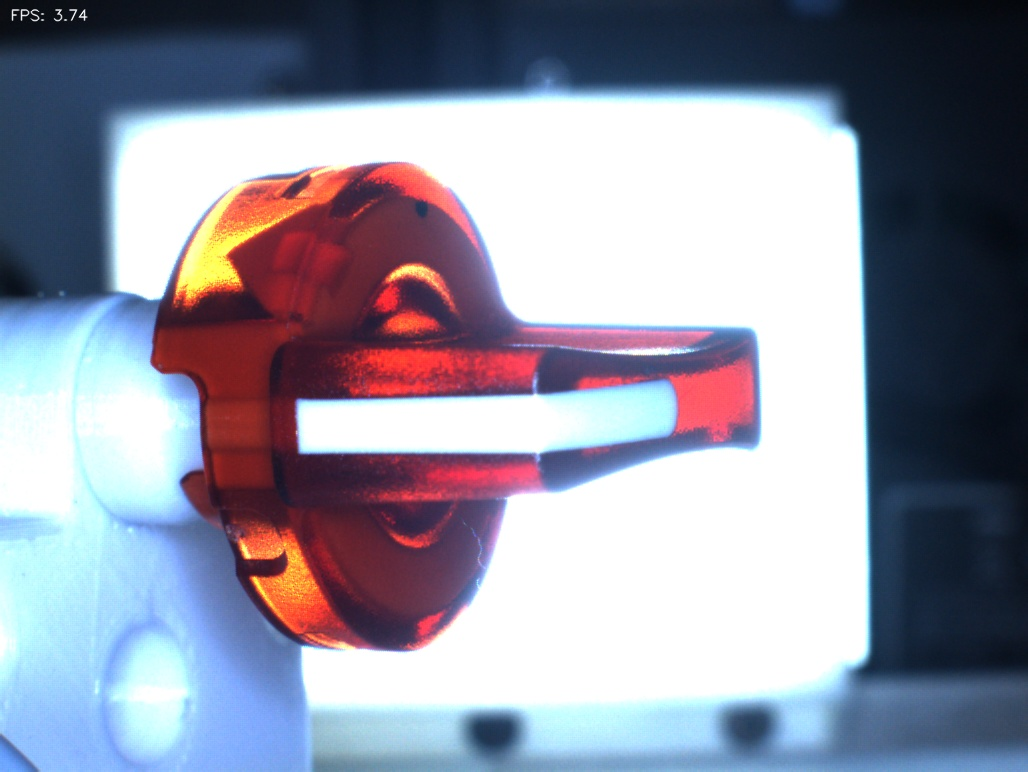PointNoir: (395, 176, 454, 247)
